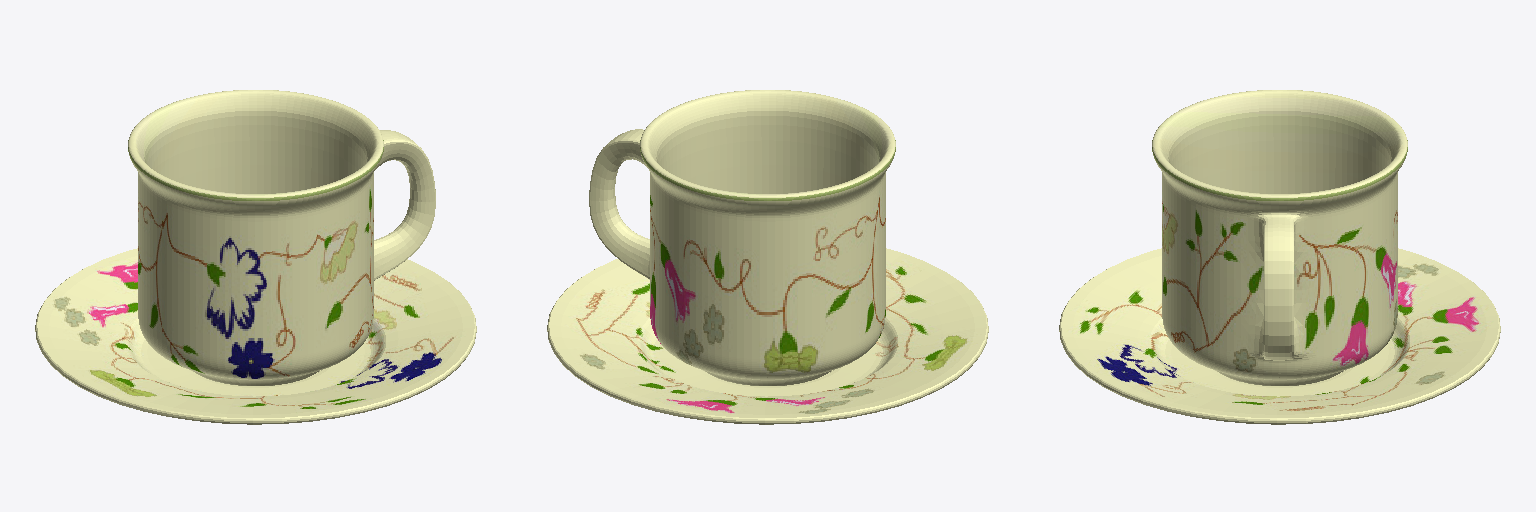
3 renders of one model, left to right at view 1: azimuth 30°, elevation 25°; view 2: azimuth 150°, elevation 25°; view 3: azimuth 270°, elevation 25°, orthographic.
Visible parts, largest first — view 1: cup_Plane, plate_Plane.001; view 2: cup_Plane, plate_Plane.001; view 3: cup_Plane, plate_Plane.001.
Boxes of the visible parts, <box> form: cup_Plane: <box>128,90,435,385</box>; plate_Plane.001: <box>35,248,476,424</box>; cup_Plane: <box>589,90,895,385</box>; plate_Plane.001: <box>547,248,988,424</box>; cup_Plane: <box>1152,90,1407,385</box>; plate_Plane.001: <box>1059,248,1500,424</box>.
Size of the model in its own units: 1 by 0.5664 by 1.
2 materials, 2 textured.